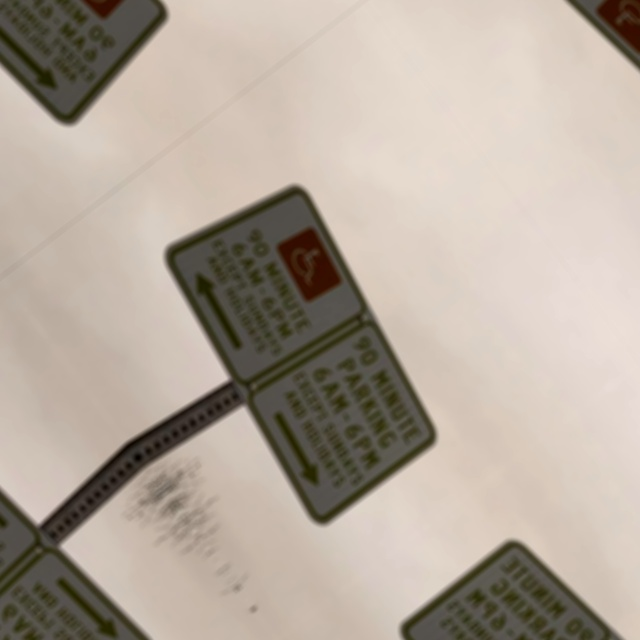ISA: (274, 225, 346, 300), (595, 0, 640, 56), (59, 0, 132, 19)
